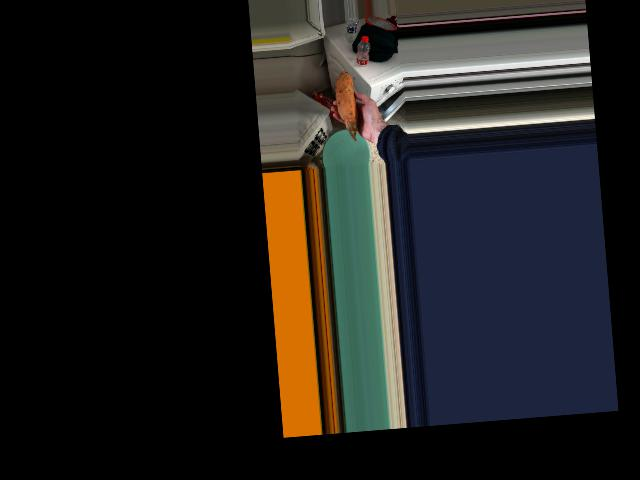sweet_potato: (334, 70, 361, 139)
